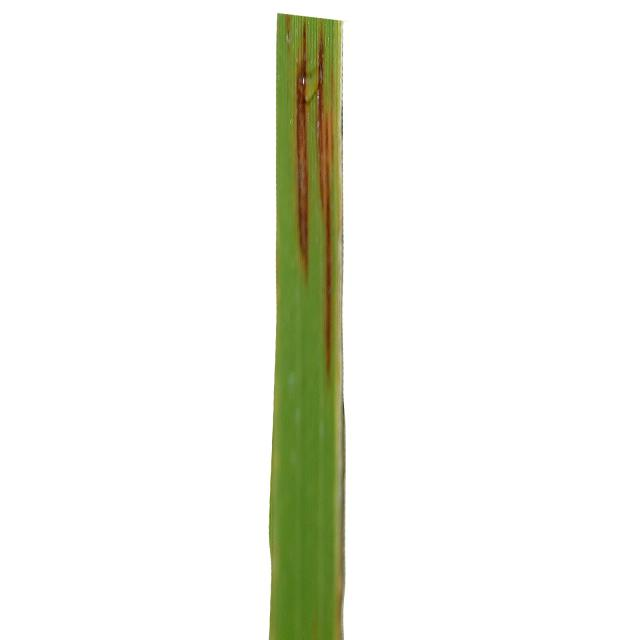Narrow brown: (226, 0, 410, 640)
